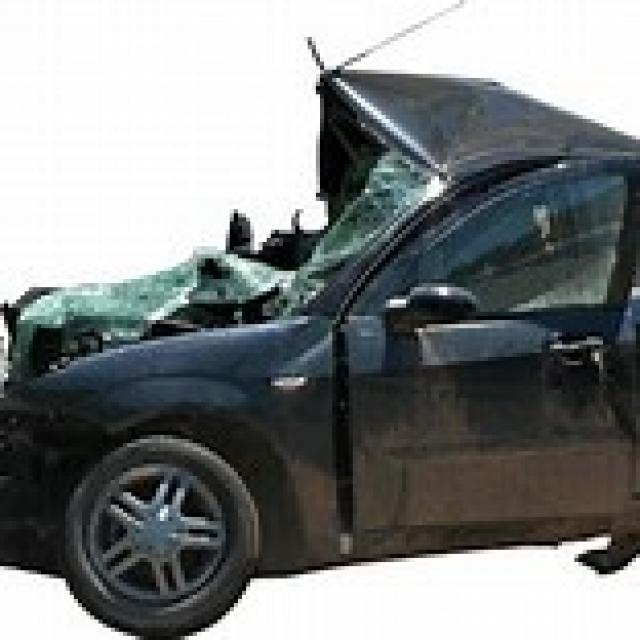Accident: (26, 56, 640, 537)
